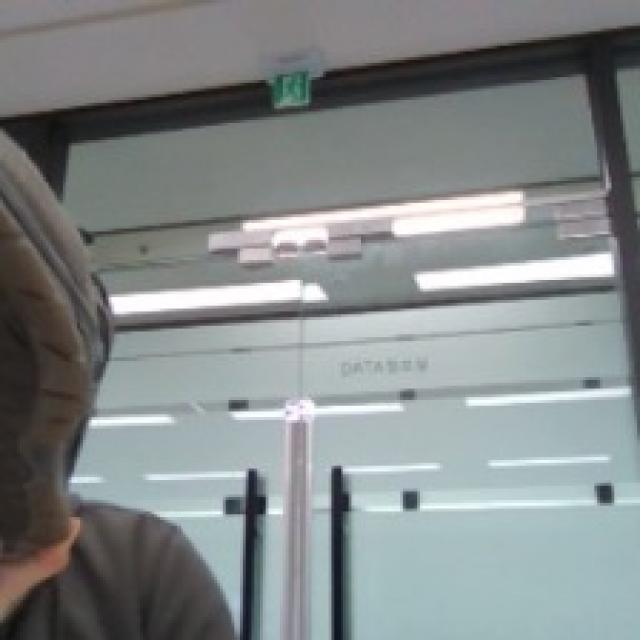shoe: (0, 123, 117, 563)
